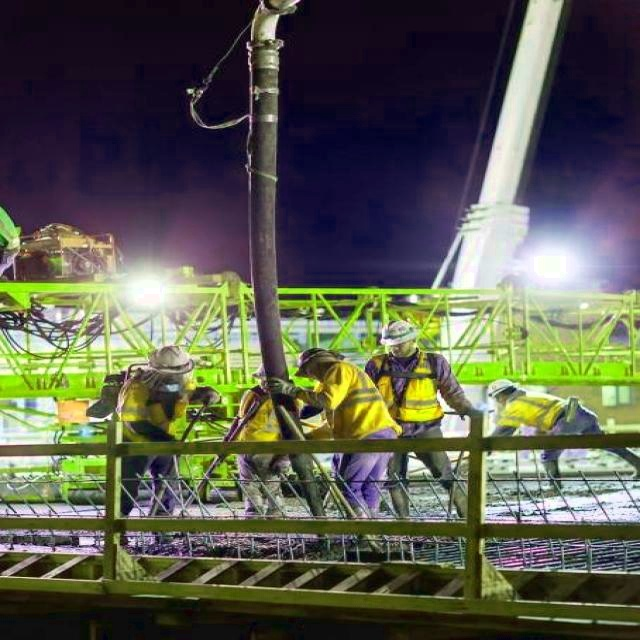Con_Chaleco: (313, 366, 393, 435), (372, 354, 445, 420), (501, 395, 562, 433)
Sin_Chaleco: (378, 318, 422, 349)
